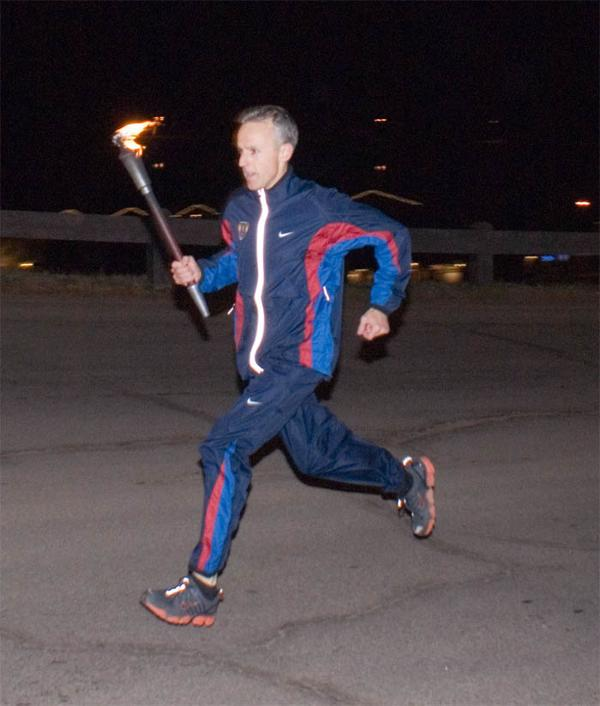person: (143, 100, 440, 631)
